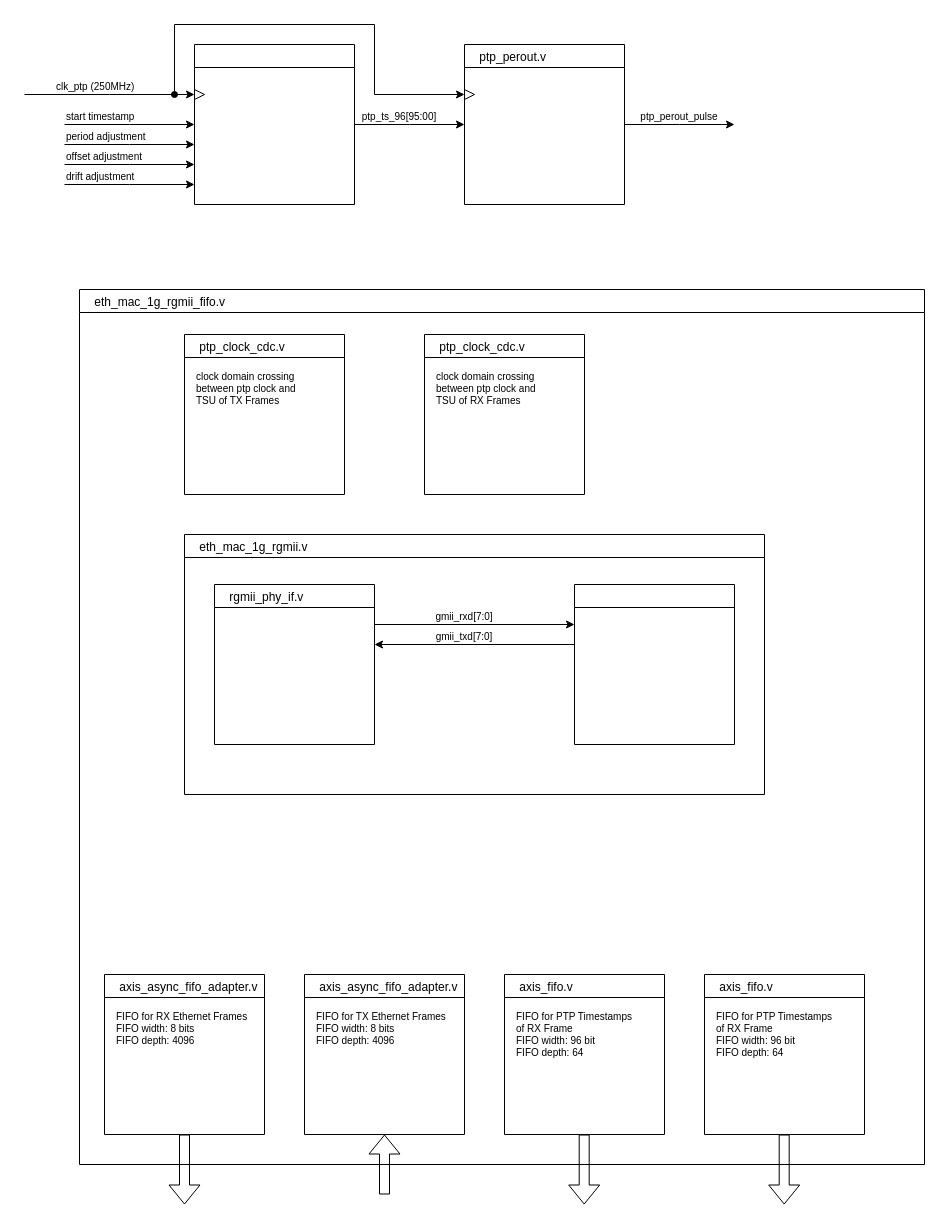
Some shapes in this 942 by 1222 pixel diagram are drawn without their labels. The centre of each missing label's shape, as x and y in pixels:
eth_mac_1g.v: the point at 654,664
ptp_clock.v: the point at 274,124
